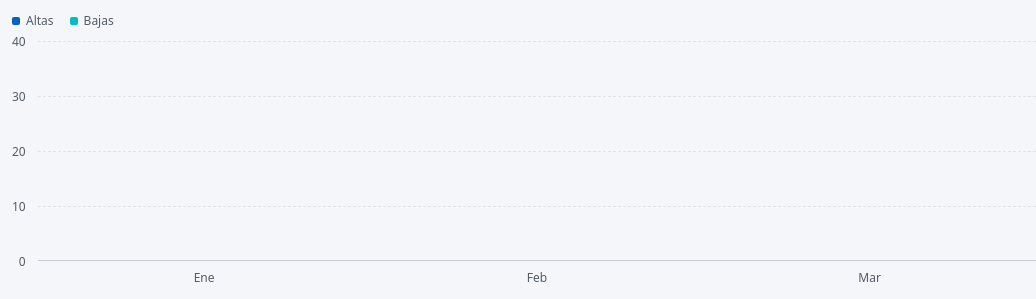
Test: 09 GraficoBarras y 10 GraficoArea › barras: el globo suma las series
Hover over the 2nd element with class "c-barras__columna" at (537, 151), box [370,41,703,261]
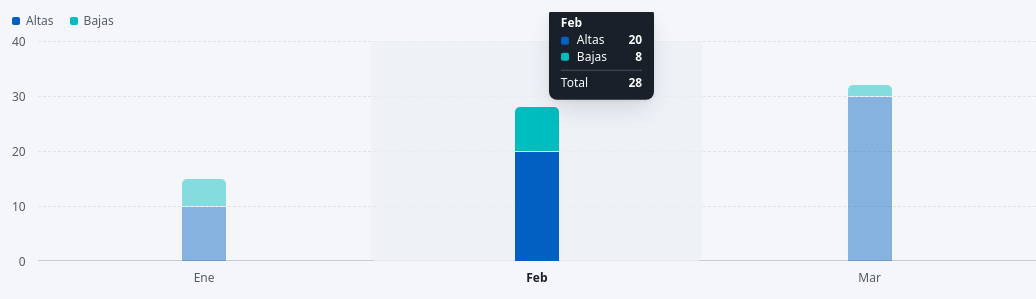
Expected: the element with class "c-globo__total" reads "Total 28", [561,70,642,91]
